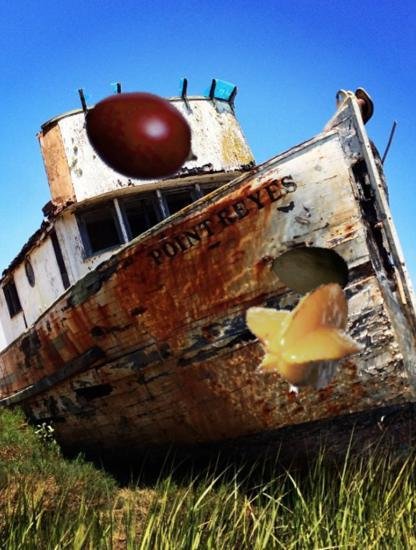Carambula: (242, 277, 367, 402)
Papaya: (275, 233, 350, 308)
Tamarillo: (83, 77, 203, 197)
